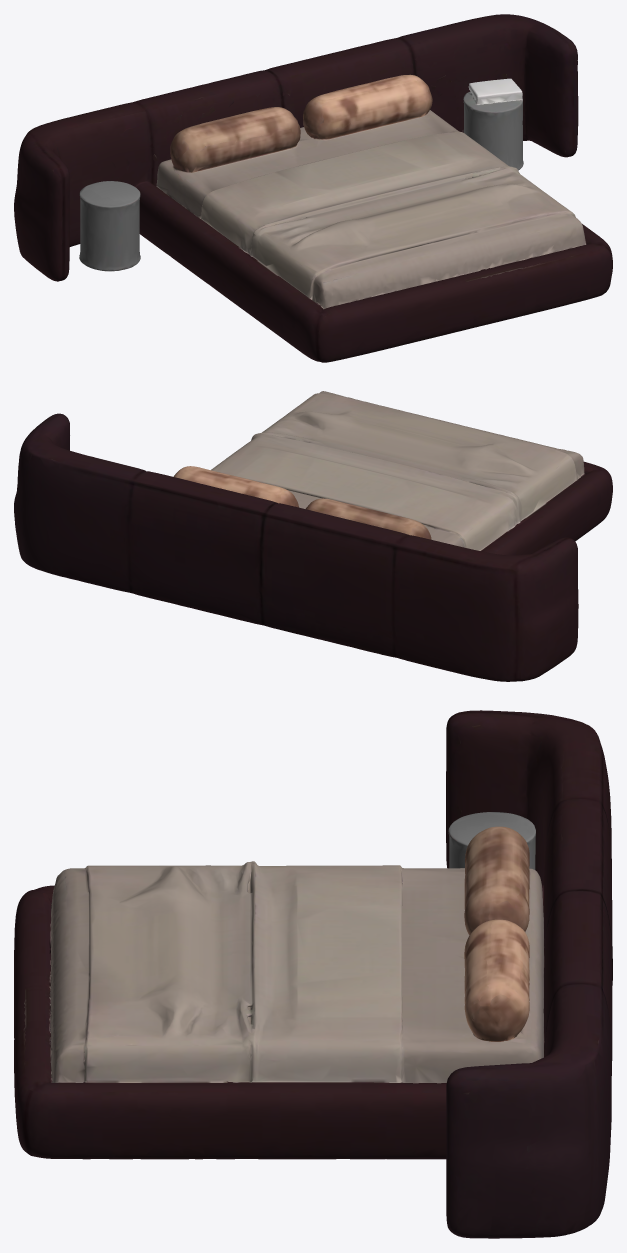
The model's file is dark-leather-platform-bed.glb.
3 renders of one model, top to bottom at view 1: azimuth 30°, elevation 25°; view 2: azimuth 150°, elevation 25°; view 3: azimuth 270°, elevation 25°, orthographic. The views are drawn at different scales.
Parts seen in each view (by area): view 1: world; view 2: world; view 3: world.
Boxes of the visible parts, left/top/right/bottom form: world: left=14, top=14, right=612, bottom=362; world: left=14, top=391, right=612, bottom=681; world: left=14, top=710, right=612, bottom=1238.
Bounding box in the file's own units: 1 × 0.2112 × 0.6769.
Materials: 1 (1 with a texture image).
